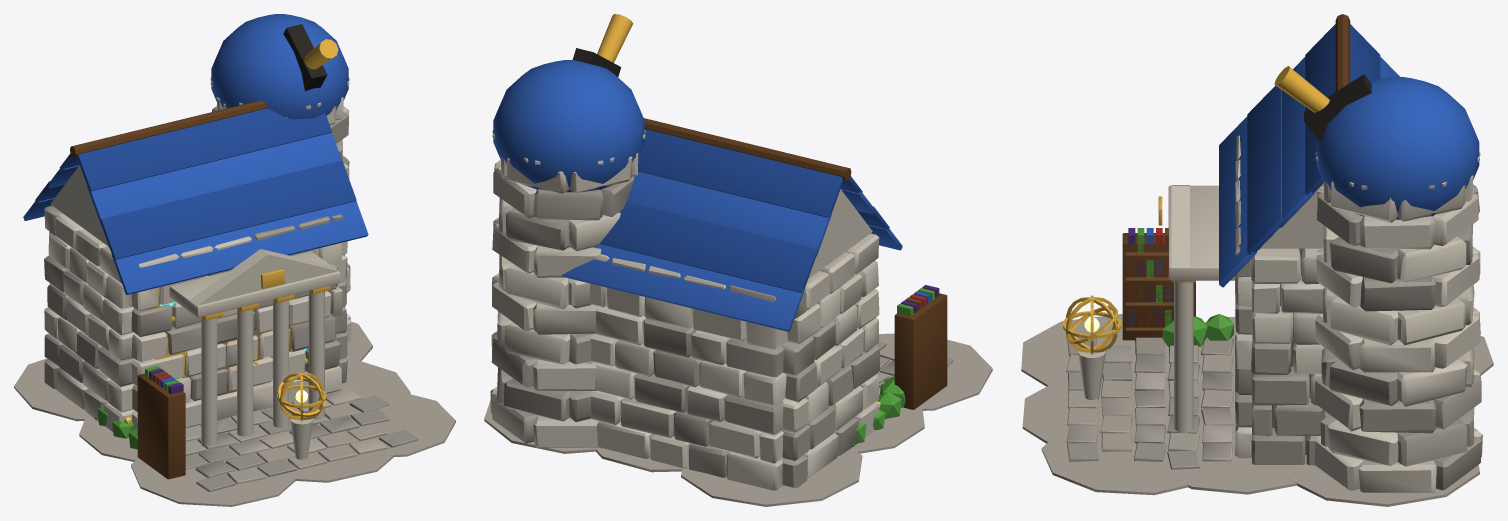
File: akademia_poz18.glb
3 views of the same model, side by side, from view 1: azimuth 30°, elevation 25°; view 2: azimuth 150°, elevation 25°; view 3: azimuth 270°, elevation 25° (orthographic). The views are drawn at different scales.
Parts seen in each view (by area): view 1: akademia_poz18; view 2: akademia_poz18; view 3: akademia_poz18.
Part boxes in pixels (left/top/right/bottom): akademia_poz18: left=14, top=14, right=455, bottom=506; akademia_poz18: left=484, top=14, right=992, bottom=506; akademia_poz18: left=1021, top=14, right=1493, bottom=506.
Size of the model in its own units: 7.38 by 7.28 by 7.72.
